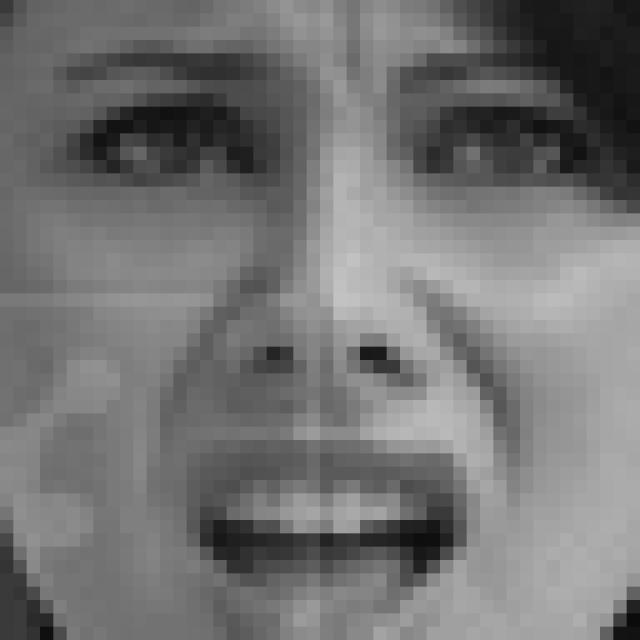disgust: (54, 47, 594, 640)
